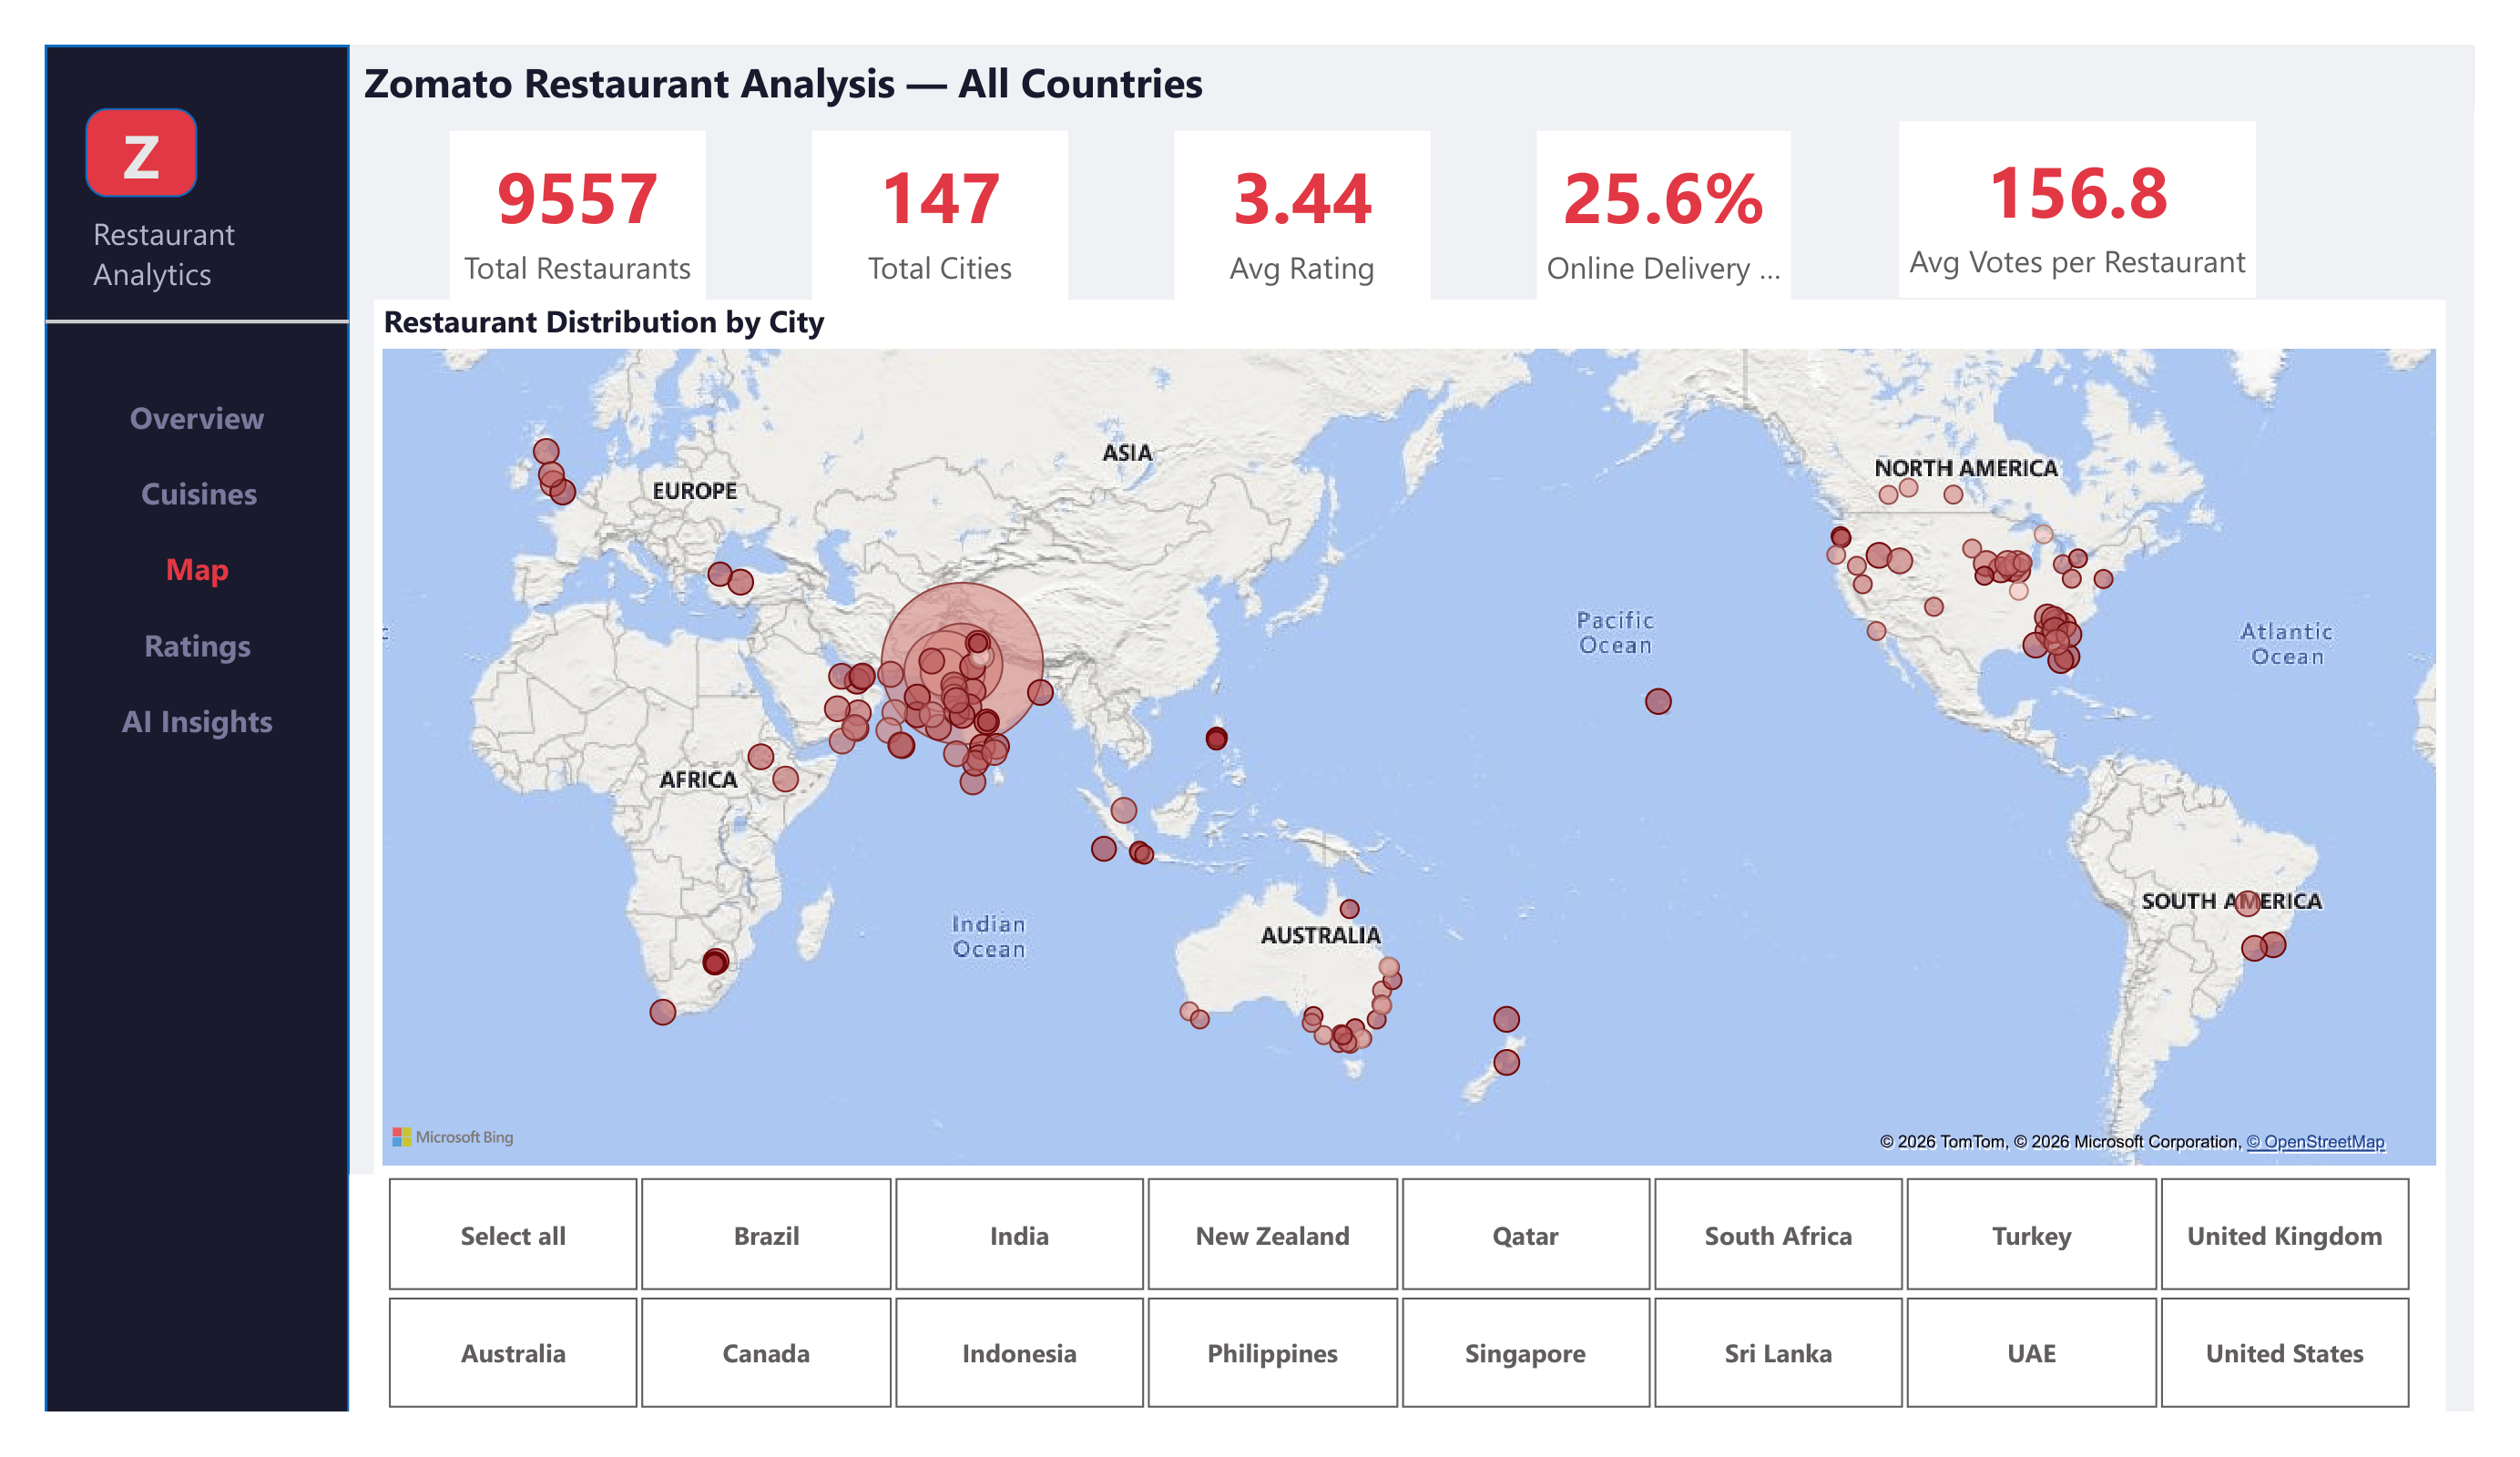

The page's visual inventory and layout, read from the dashboard file:
{"tool":"powerbi","page":{"name":"Map","canvas":[1280,720],"ordinal":2},"visuals":[{"type":"shape","box":[0,0,159.8,720.6],"z":0},{"type":"card","fields":{"Values":["_Measures.Total Restaurants"]},"box":[212.6,44.6,134.9,89.6],"z":0,"group":"g1"},{"type":"shape","box":[21.4,32.8,58.5,47.1],"z":1000},{"type":"card","fields":{"Values":["_Measures.Total Cities"]},"box":[403.4,44.6,134.9,89.6],"z":1000,"group":"g1"},{"type":"textbox","box":[20,30,61.4,52.8],"z":2000},{"type":"card","fields":{"Values":["_Measures.Avg Rating"]},"box":[594.3,44.6,134.9,89.6],"z":2000,"group":"g1"},{"type":"card","fields":{"Values":["_Measures.Online Delivery %"]},"box":[785.1,44.6,134.9,89.6],"z":3000,"group":"g1"},{"type":"textbox","box":[20,82.8,105.6,74.2],"z":3000},{"type":"card","fields":{"Values":["_Measures.Avg Votes per Restaurant"]},"box":[976.6,39.7,188.4,92.8],"z":4000,"group":"g1"},{"type":"actionButton","box":[0,175.5,159.8,40],"z":4000},{"type":"actionButton","box":[1.4,215.5,159.8,40],"z":5000},{"type":"actionButton","box":[0,255.4,159.8,40],"z":6000},{"type":"actionButton","box":[0,295.4,159.8,40],"z":7000},{"type":"actionButton","box":[0,335.3,159.8,40],"z":8000},{"type":"shape","box":[0,134.1,159.8,22.8],"z":9000},{"type":"map","title":"Restaurant Distribution by City","fields":{"Size":["_Measures.Total Restaurants"],"Y":["Avg(Restaurants.Latitude)"],"X":["Avg(Restaurants.Longitude)"],"Category":["Restaurants.City"]},"box":[173.4,133.6,1092,461.1],"z":10000},{"type":"card","fields":{"Values":["_Measures.Page Title"]},"box":[160.1,0,457.5,40.9],"z":11000},{"type":"slicer","fields":{"Values":["Country lookup.Country"]},"box":[160.1,594.8,1105.3,125.2],"z":12000},{"type":"group","id":"g1","title":"Group 1","box":[212.6,39.7,952.3,94.5],"z":14001}]}

Visuals, with their boxes on the page's 1280x720 design canvas (x1, y1, x2, y2). These are canvas units, not pixel positions in the 2520x1457 screenshot, which may show the page scaled, cropped or inside an application window:
shape: box=[0, 0, 160, 721]
card - _Measures.Total Restaurants: box=[213, 45, 348, 134]
shape: box=[21, 33, 80, 80]
card - _Measures.Total Cities: box=[403, 45, 538, 134]
textbox: box=[20, 30, 81, 83]
card - _Measures.Avg Rating: box=[594, 45, 729, 134]
card - _Measures.Online Delivery %: box=[785, 45, 920, 134]
textbox: box=[20, 83, 126, 157]
card - _Measures.Avg Votes per Restaurant: box=[977, 40, 1165, 132]
actionButton: box=[0, 176, 160, 216]
actionButton: box=[1, 216, 161, 256]
actionButton: box=[0, 255, 160, 295]
actionButton: box=[0, 295, 160, 335]
actionButton: box=[0, 335, 160, 375]
shape: box=[0, 134, 160, 157]
"Restaurant Distribution by City" map: box=[173, 134, 1265, 595]
card - _Measures.Page Title: box=[160, 0, 618, 41]
slicer - Country lookup.Country: box=[160, 595, 1265, 720]
"Group 1" group: box=[213, 40, 1165, 134]
